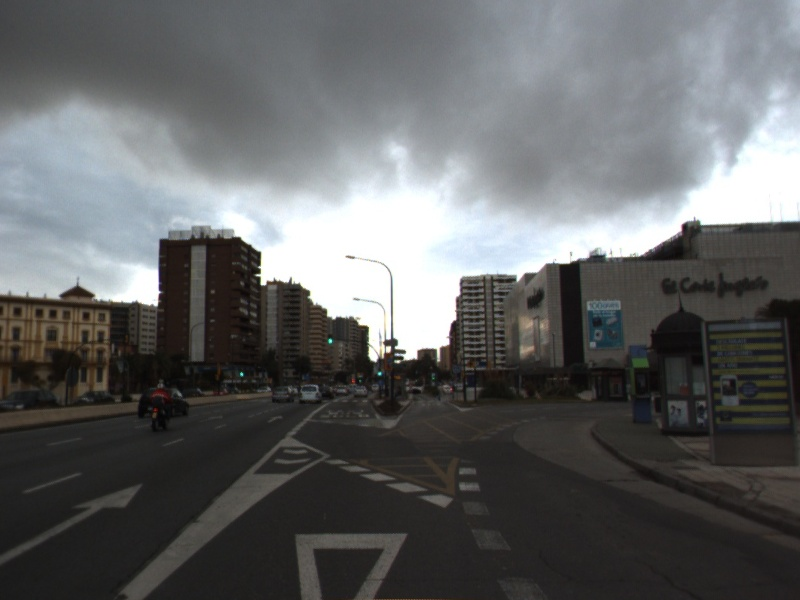STRAIGHT: (1, 478, 147, 563)
